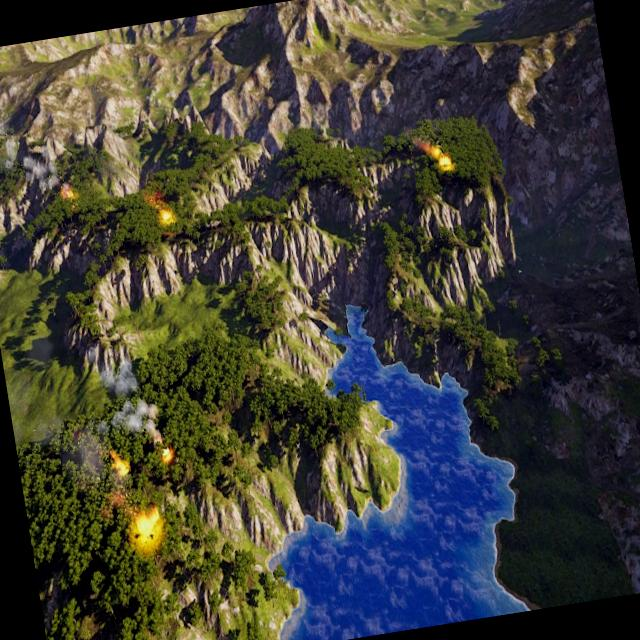fire: (133, 507, 163, 544), (428, 138, 453, 171), (112, 451, 131, 476), (60, 183, 78, 205), (161, 446, 175, 464), (159, 208, 173, 224)
smoke: (67, 348, 164, 460), (5, 134, 65, 198), (415, 138, 432, 154)
